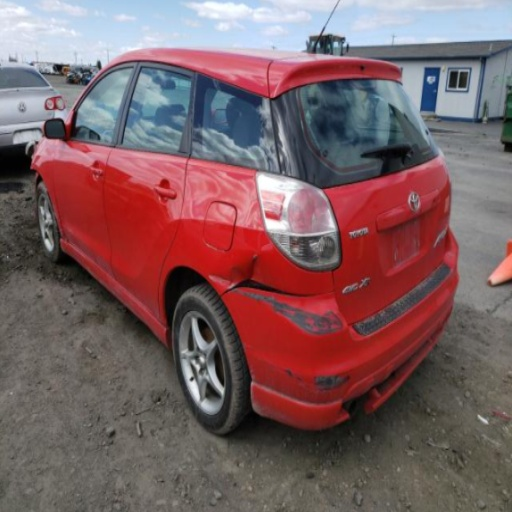dent: (219, 251, 267, 291)
scratch: (235, 292, 343, 333), (284, 370, 348, 390), (434, 220, 449, 243)
